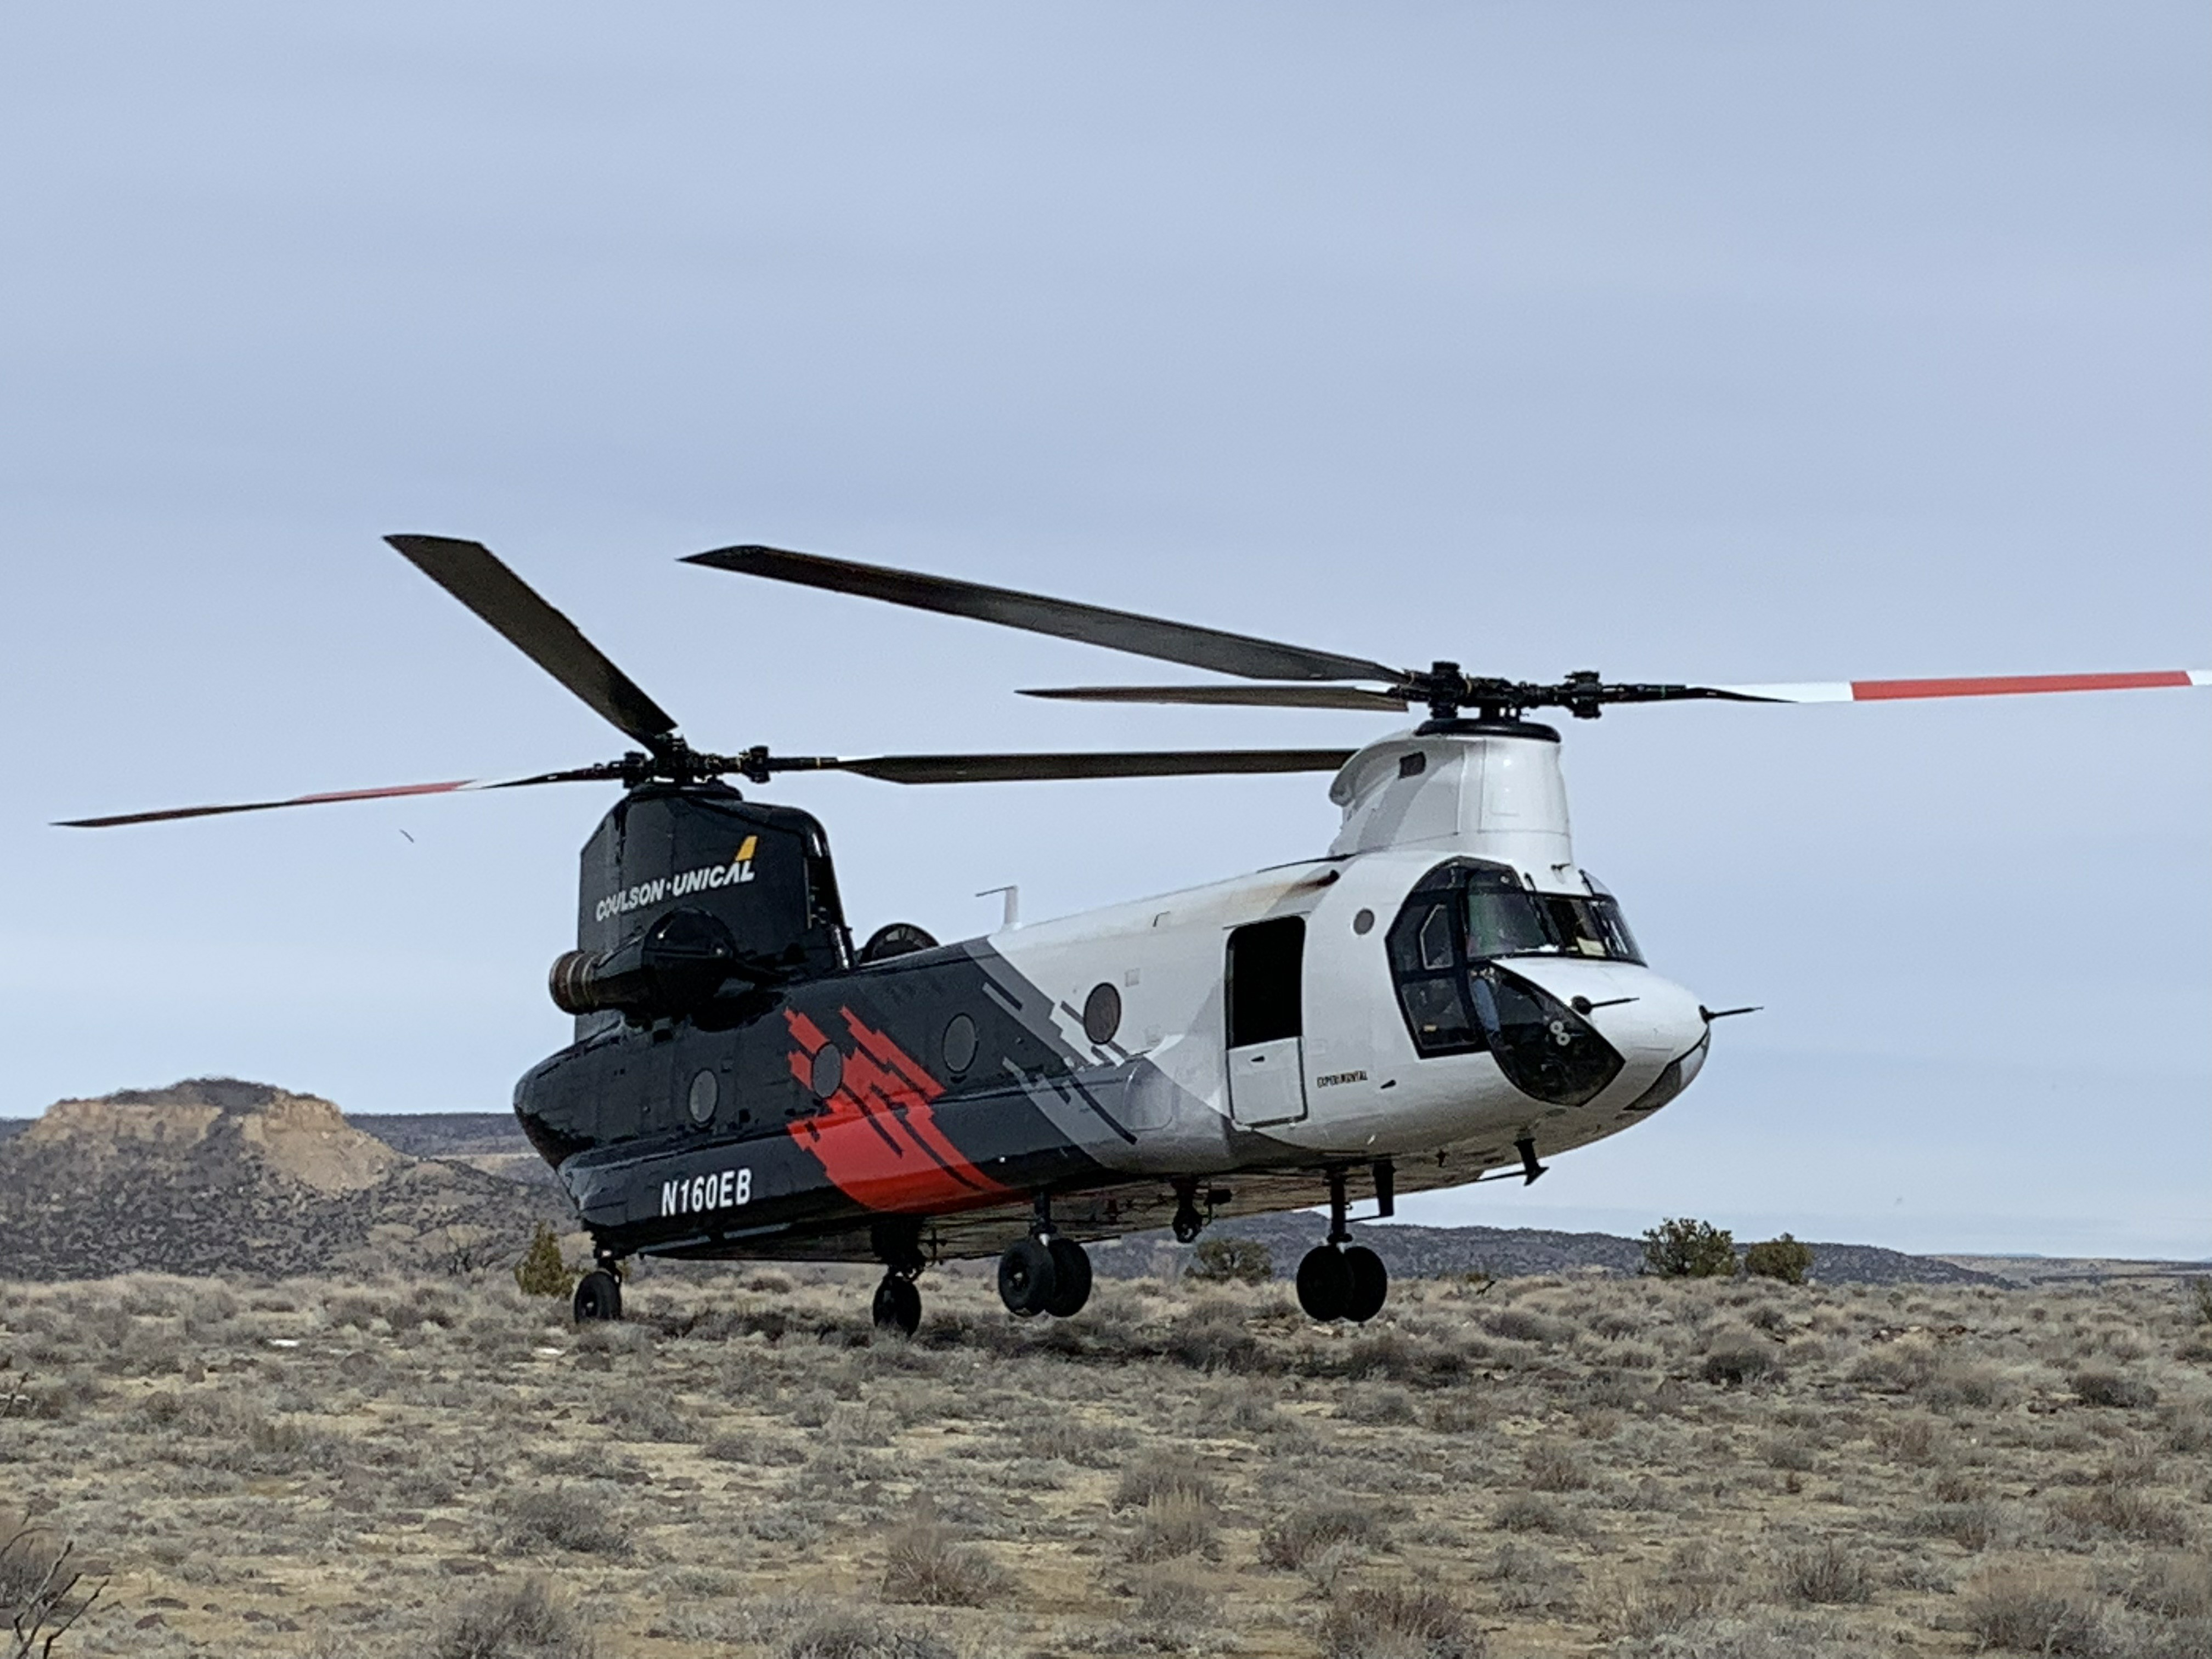chinook: (474, 528, 1757, 1363)
